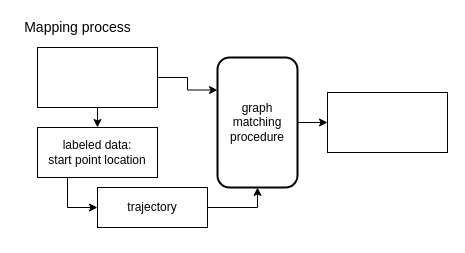
This 465x253 diagram has some shape labels left out. Each missing label, with the box of its shape:
ground source location graph: (36, 46, 158, 108)
map of fingerprints: (326, 92, 448, 152)
